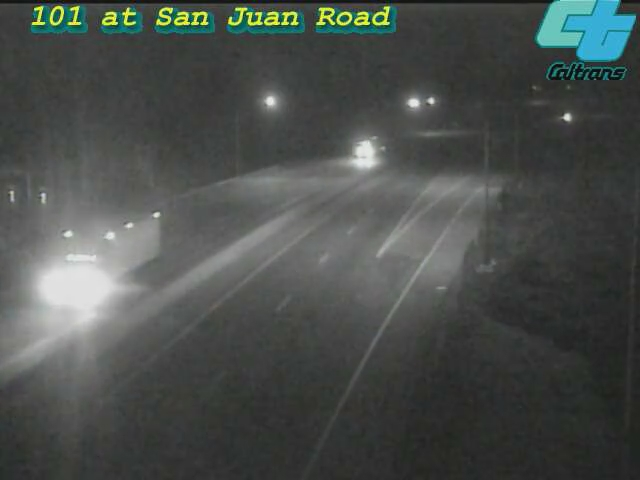vehicle: (50, 221, 130, 301), (328, 112, 408, 192), (542, 92, 592, 142)
